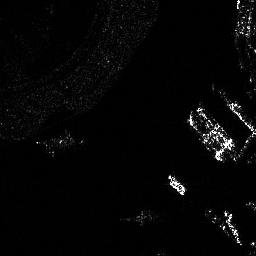ship: (168, 173, 186, 195)
